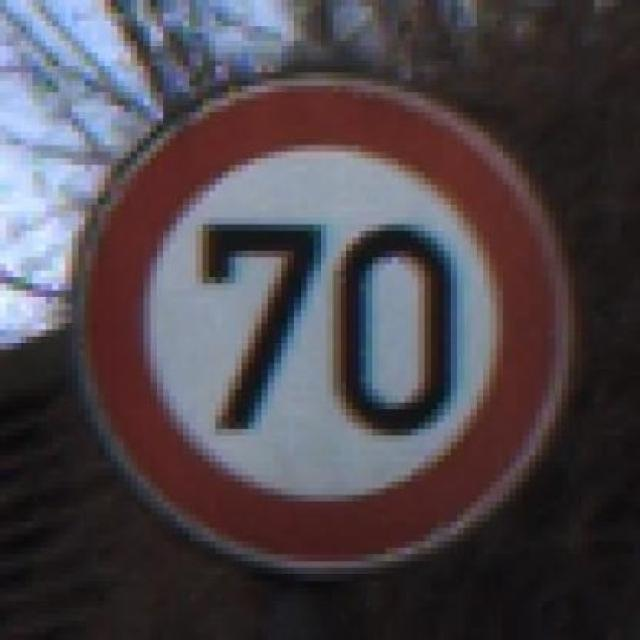forb_speed_over_70: (79, 76, 570, 572)
